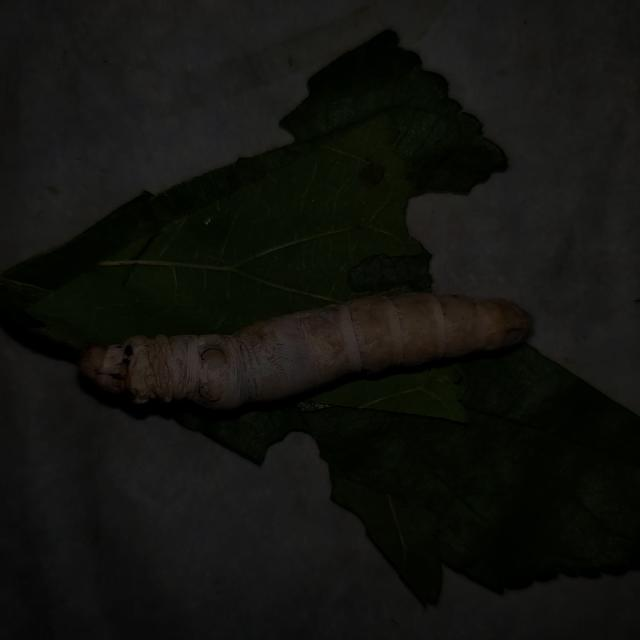Grasserie: (50, 249, 562, 454)
